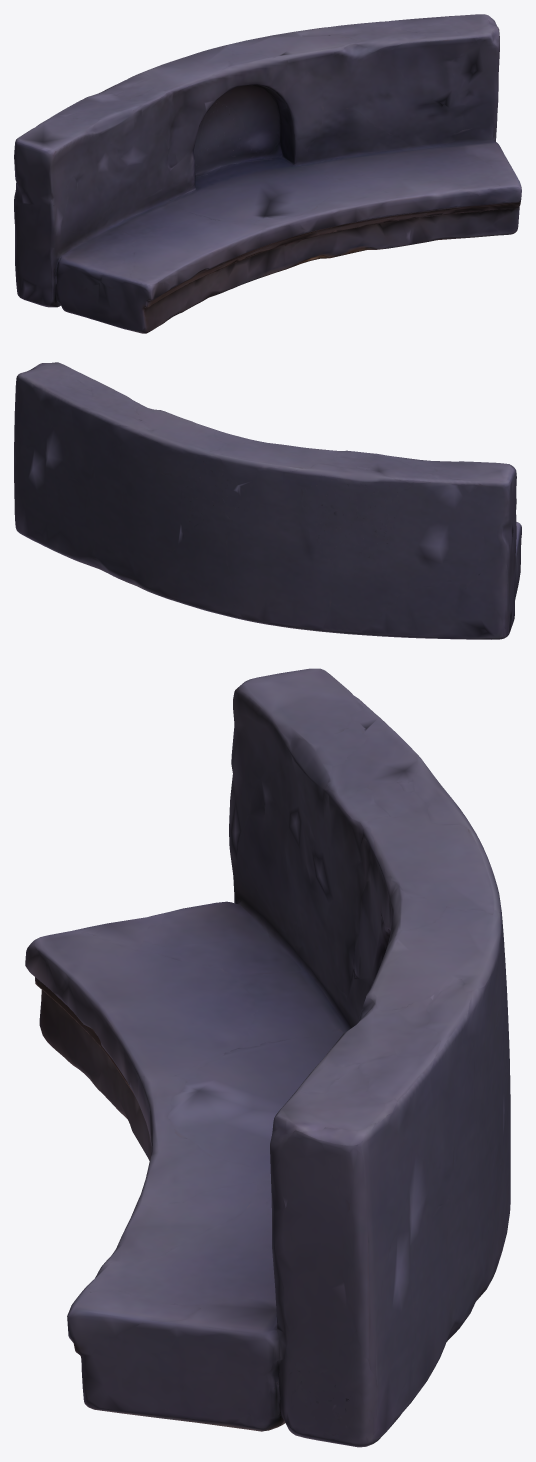
File: stratum-terrace-web-256.glb
3 renders of one model, top to bottom at view 1: azimuth 30°, elevation 25°; view 2: azimuth 150°, elevation 25°; view 3: azimuth 270°, elevation 25°, orthographic. The views are drawn at different scales.
Visible parts, largest first — view 1: node_0; view 2: node_0; view 3: node_0.
Part boxes in pixels (bbox=[...]): node_0: bbox=[14, 14, 521, 333]; node_0: bbox=[14, 362, 521, 639]; node_0: bbox=[25, 668, 510, 1447].
Bounding box in the file's own units: 1.14 × 0.3574 × 0.4963.
Materials: 1 (1 with a texture image).
